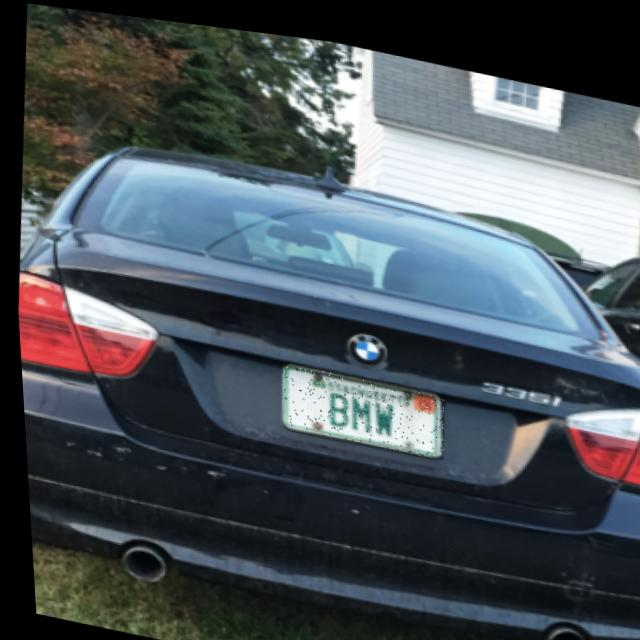license_plate: (275, 355, 443, 449)
